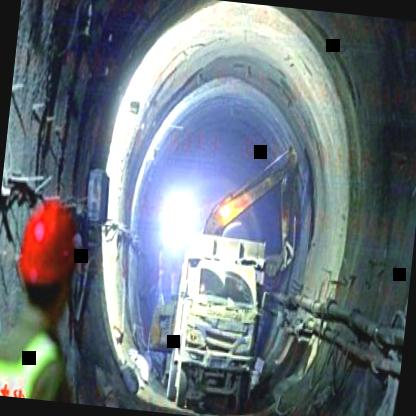helmet: (6, 185, 88, 320)
